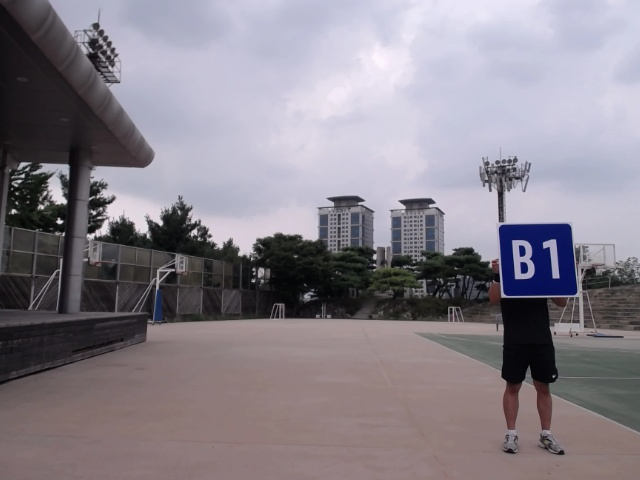delivery_b1: (497, 223, 579, 297)
